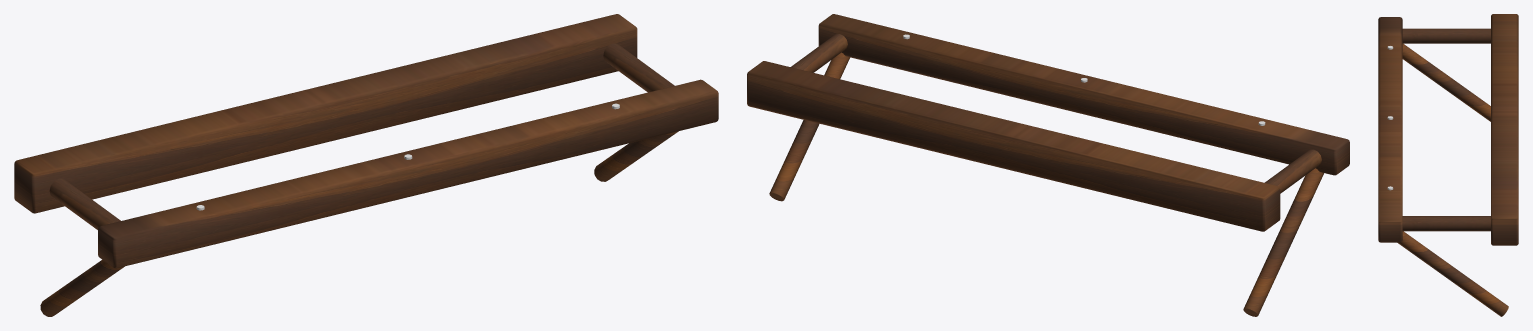
The model's file is CM_AF01_DryingRack.fbx.
3 views of the same model, side by side, from view 1: azimuth 30°, elevation 25°; view 2: azimuth 150°, elevation 25°; view 3: azimuth 270°, elevation 25° (orthographic). The views are drawn at different scales.
Visible parts, largest first — view 1: CM_AF01_DryingRack; view 2: CM_AF01_DryingRack; view 3: CM_AF01_DryingRack.
Part boxes in pixels (left/top/right/bottom): CM_AF01_DryingRack: left=14, top=14, right=718, bottom=316; CM_AF01_DryingRack: left=747, top=14, right=1349, bottom=316; CM_AF01_DryingRack: left=1378, top=14, right=1518, bottom=316.
Size of the model in its own units: 1.4 by 0.3399 by 0.405.
